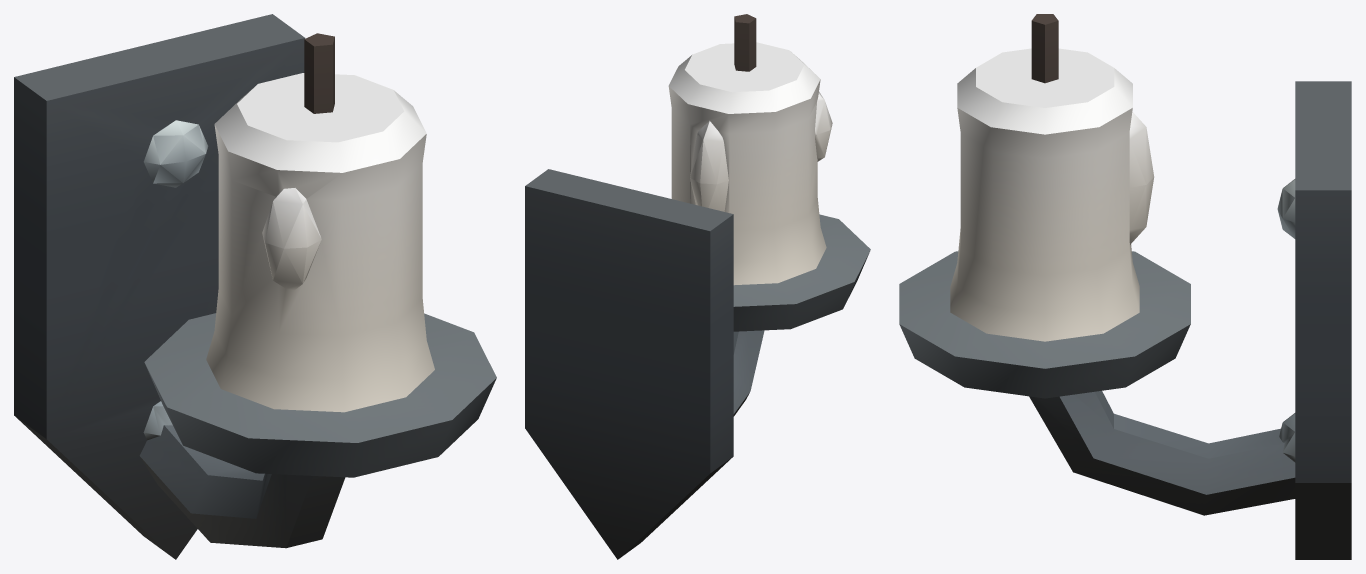
Rendered from sconce.glb.
The picture shows the model from 3 angles, left to right: view 1: azimuth 30°, elevation 25°; view 2: azimuth 150°, elevation 25°; view 3: azimuth 270°, elevation 25°; orthographic projection. The views are drawn at different scales.
Parts seen in each view (by area): view 1: Item; view 2: Item; view 3: Item.
Part boxes in pixels (x1=…): Item: x1=14, y1=14, x2=496, y2=559; Item: x1=525, y1=14, x2=870, y2=559; Item: x1=899, y1=14, x2=1351, y2=559.
Size of the model in its own units: 0.38 by 0.74 by 0.5607.
Materials: 3 (3 with a texture image).
